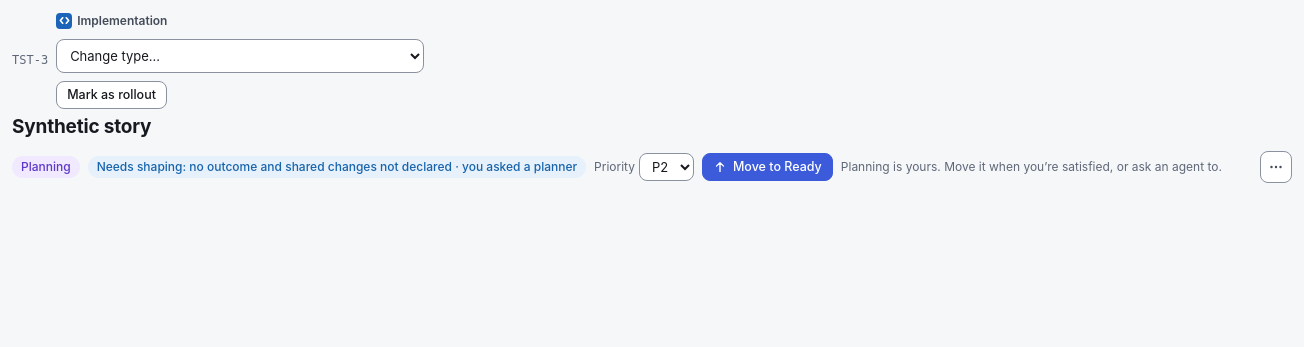
Test: Needs shaping on the ticket (decision 65) › once you asked a planner, the refusal says so instead of asking again
This screenshot has width=1304, height=347.
Expected: the text "you asked a planner" is shown, [452,159,577,174]
Click the button "Move to Ready" at (767, 167), box [702,153,833,181]
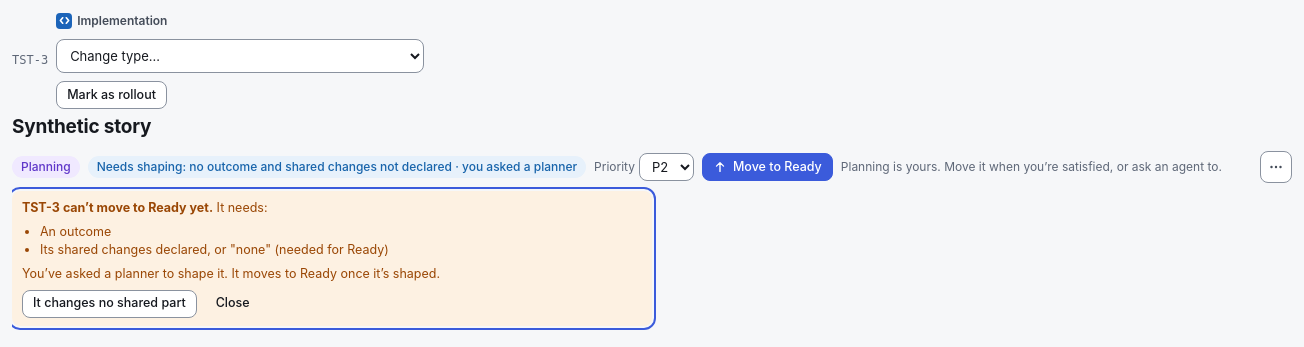
Expected: the text "You’ve asked a planner to shape it" is shown, [22,266,440,281]
